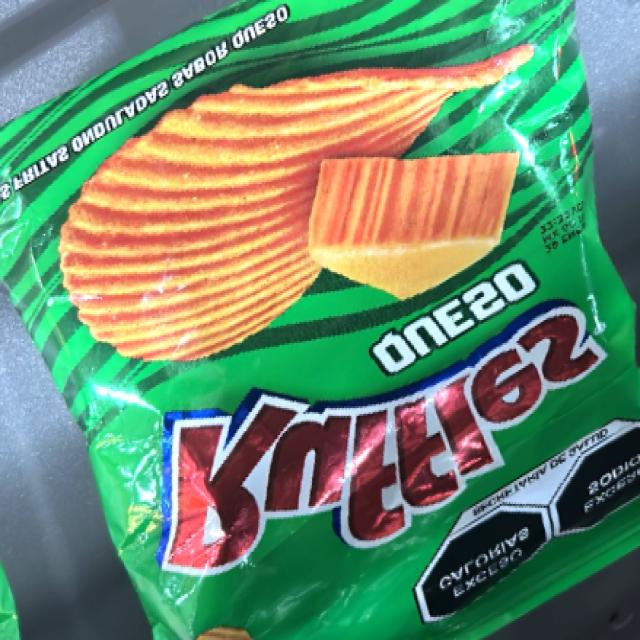rufflesQueso: (35, 63, 630, 594)
